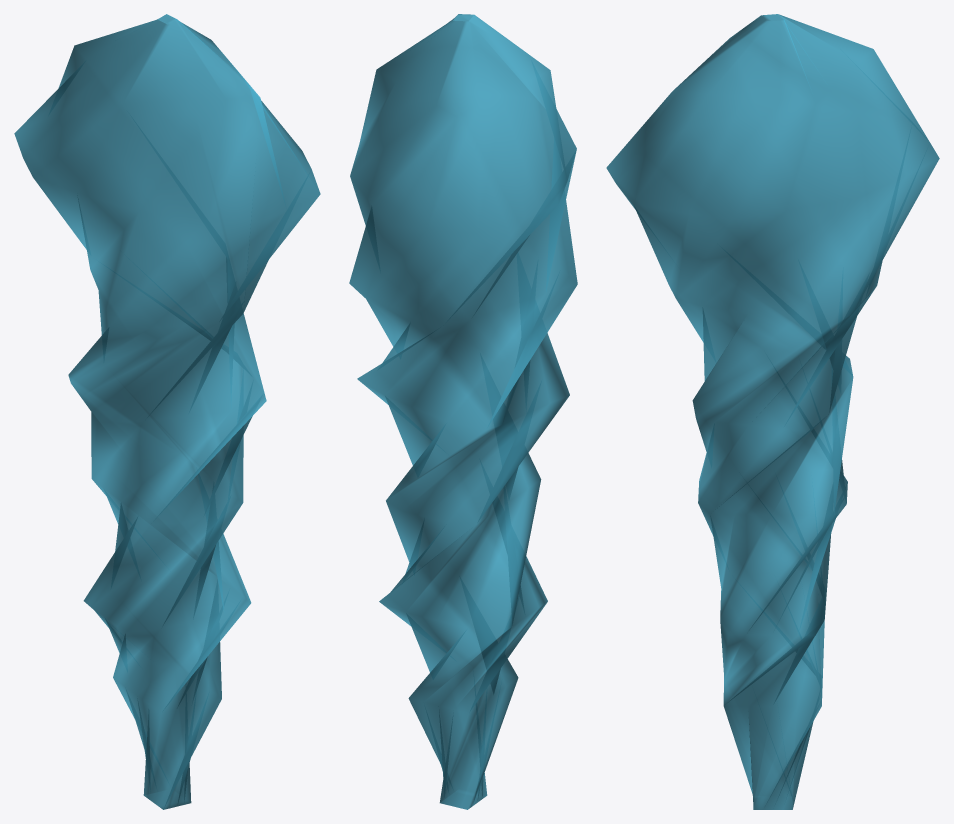
Rendered from SM_Crystal_02.fbx.
3 views of the same model, side by side, from view 1: azimuth 30°, elevation 25°; view 2: azimuth 150°, elevation 25°; view 3: azimuth 270°, elevation 25° (orthographic).
Visible parts, largest first — view 1: pCube1; view 2: pCube1; view 3: pCube1.
Boxes of the visible parts, <box> form: pCube1: <box>14,14,320,809</box>; pCube1: <box>349,14,577,809</box>; pCube1: <box>606,14,939,809</box>.
Bounding box in the file's own units: 24.79 × 80.54 × 31.
